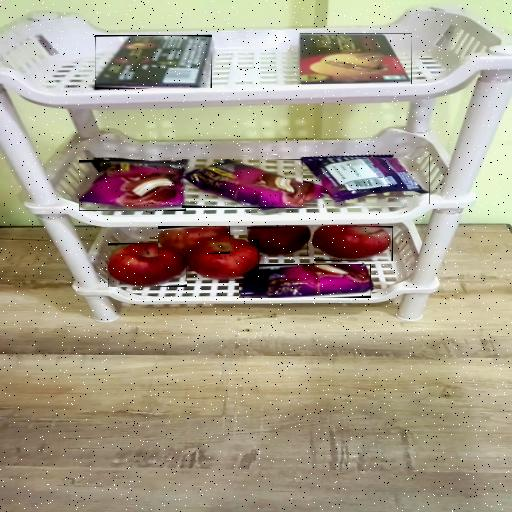Apple: (108, 243, 187, 287), (186, 239, 259, 281), (314, 226, 393, 261), (158, 226, 230, 254), (247, 227, 308, 256)
Choco Fills: (95, 36, 212, 90), (300, 33, 412, 84)
Choco Pie: (182, 159, 324, 208), (303, 158, 430, 206), (79, 160, 186, 211), (239, 264, 371, 298)
